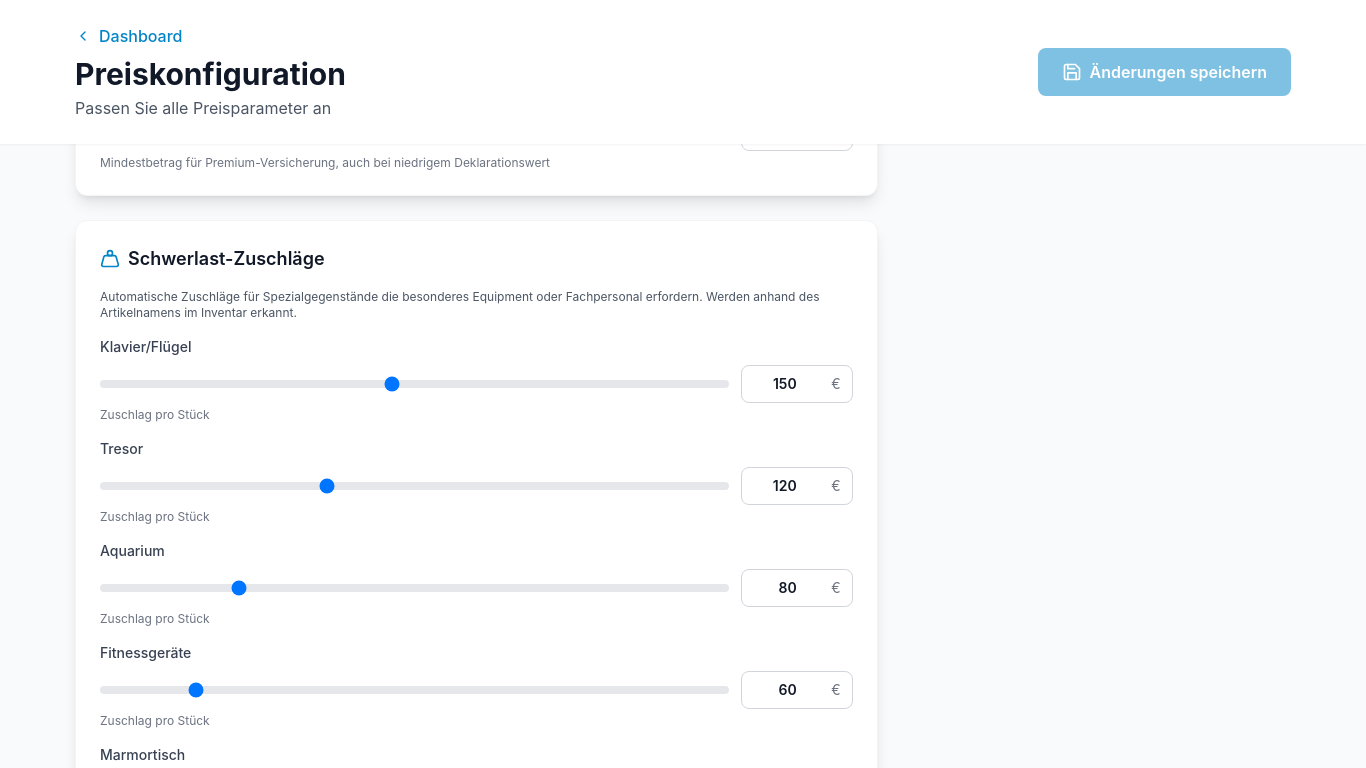
Test: Slider and input sync › slider and input sync for heavy item fields
(page scrolled)
Expected: the 1st number field holds "150", [741,365,853,403]
Set the slider below "Klavier/Flügel" to "200" at x=502, y=384, box [100,380,729,388]
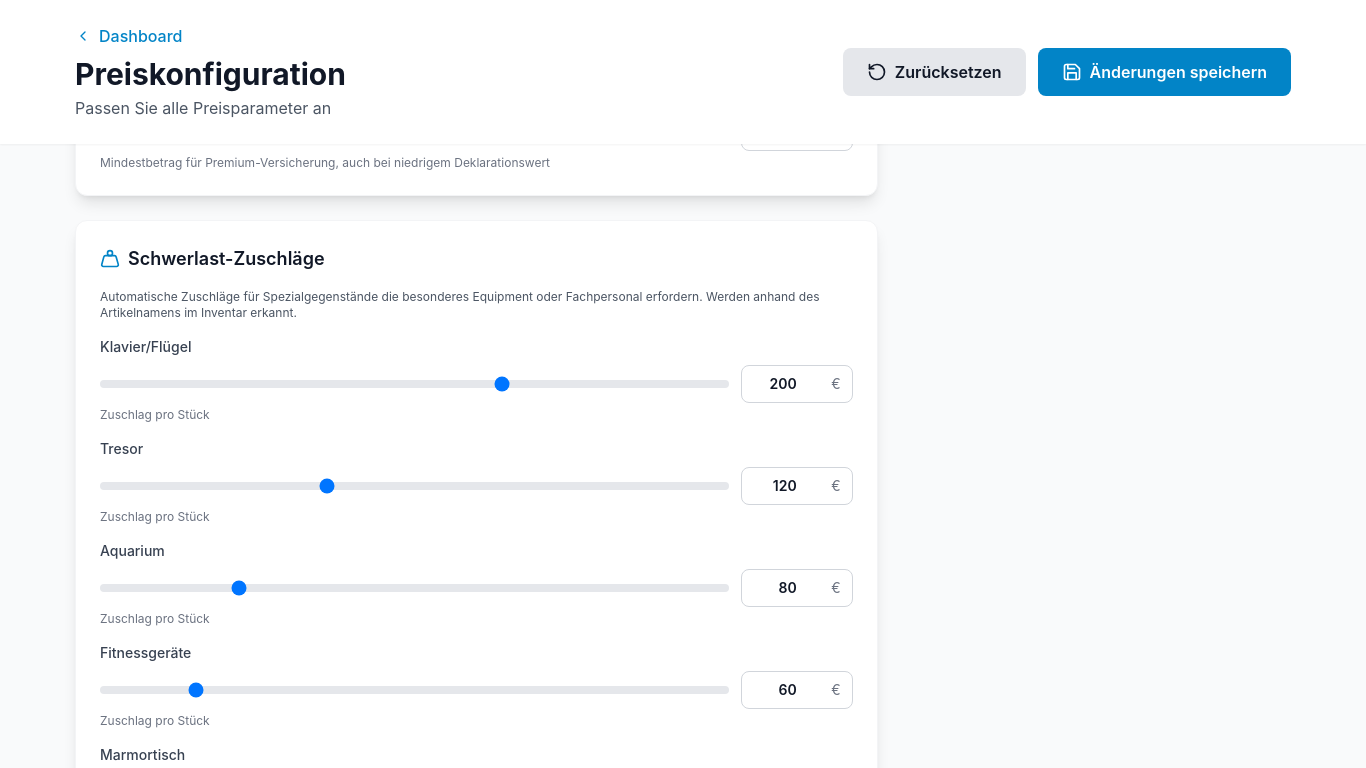
Expected: the 1st number field holds "200", [741,365,853,403]
